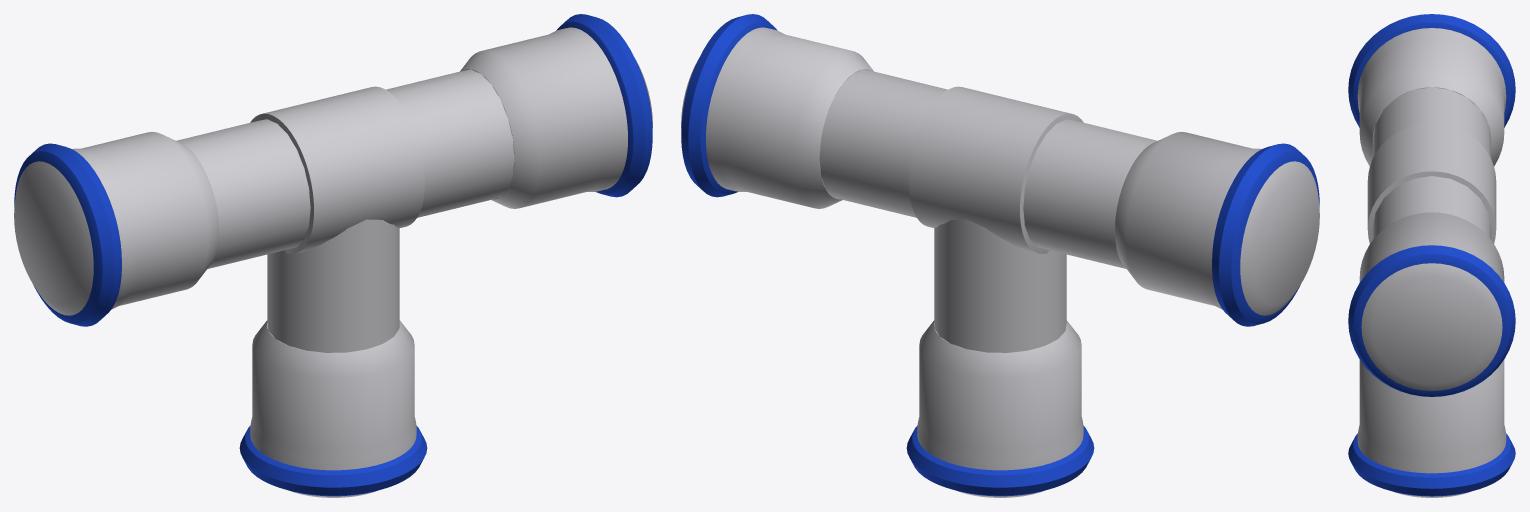
Rendered from fitting_tee_D.glb.
3 views of the same model, side by side, from view 1: azimuth 30°, elevation 25°; view 2: azimuth 150°, elevation 25°; view 3: azimuth 270°, elevation 25° (orthographic). The views are drawn at different scales.
Parts seen in each view (by area): view 1: раструб, корпус, раструб.002, раструб.001, узел, корпус.001, кольцо пресс, кольцо пресс.002, кольцо пресс.001; view 2: раструб, корпус, раструб.002, раструб.001, узел, корпус.001, кольцо пресс, кольцо пресс.002, кольцо пресс.001; view 3: раструб.001, раструб.002, раструб, корпус, узел, кольцо пресс.001, кольцо пресс.002, кольцо пресс.
Boxes of the visible parts, left/top/right/bottom form: раструб: left=14, top=132, right=218, bottom=315; корпус: left=176, top=69, right=514, bottom=268; раструб.002: left=250, top=320, right=416, bottom=497; раструб.001: left=460, top=27, right=652, bottom=208; узел: left=250, top=86, right=424, bottom=254; корпус.001: left=267, top=219, right=399, bottom=352; кольцо пресс: left=14, top=143, right=121, bottom=326; кольцо пресс.002: left=239, top=425, right=427, bottom=496; кольцо пресс.001: left=556, top=14, right=652, bottom=197; раструб: left=1115, top=132, right=1319, bottom=315; корпус: left=819, top=69, right=1157, bottom=268; раструб.002: left=917, top=320, right=1083, bottom=497; раструб.001: left=681, top=27, right=873, bottom=208; узел: left=909, top=86, right=1083, bottom=254; корпус.001: left=934, top=219, right=1066, bottom=352; кольцо пресс: left=1212, top=143, right=1319, bottom=326; кольцо пресс.002: left=906, top=425, right=1094, bottom=496; кольцо пресс.001: left=681, top=14, right=777, bottom=197; раструб.001: left=1359, top=212, right=1504, bottom=390; раструб.002: left=1357, top=360, right=1506, bottom=497; раструб: left=1357, top=28, right=1506, bottom=166; корпус: left=1372, top=87, right=1491, bottom=239; узел: left=1367, top=123, right=1496, bottom=243; кольцо пресс.001: left=1348, top=245, right=1515, bottom=396; кольцо пресс.002: left=1348, top=433, right=1515, bottom=496; кольцо пресс: left=1348, top=14, right=1515, bottom=127.
Bounding box in the file's own units: 0.124 × 0.0796 × 0.0352.
